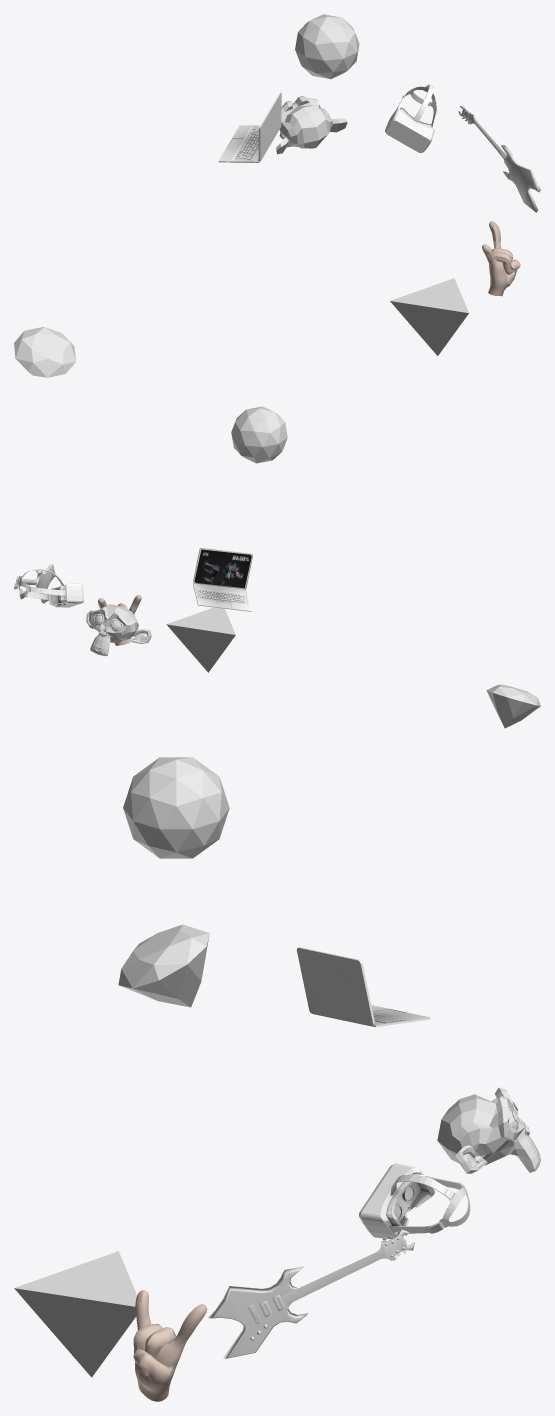
File: spiral_scroll_d.glb
The picture shows the model from 3 angles, top to bottom: view 1: azimuth 30°, elevation 25°; view 2: azimuth 150°, elevation 25°; view 3: azimuth 270°, elevation 25°; orthographic projection. The views are drawn at different scales.
Visible parts, largest first — view 1: Cone, Icosphere, Suzanne, Diamond, Notebook, VR Headset, Horns, Guitar; view 2: Notebook, Cone, Icosphere, Suzanne, Diamond, VR Headset, Guitar; view 3: Icosphere, Cone, Suzanne, Guitar, Diamond, Notebook, VR Headset, Horns.
Part boxes in pixels (bbox=[...]): Cone: bbox=[390, 278, 468, 355]; Icosphere: bbox=[295, 14, 359, 79]; Suzanne: bbox=[276, 96, 347, 154]; Diamond: bbox=[14, 327, 75, 377]; Notebook: bbox=[218, 92, 281, 162]; VR Headset: bbox=[385, 84, 437, 152]; Horns: bbox=[482, 221, 520, 296]; Guitar: bbox=[458, 105, 540, 212]; Notebook: bbox=[193, 547, 252, 611]; Cone: bbox=[166, 607, 235, 672]; Icosphere: bbox=[231, 406, 287, 463]; Suzanne: bbox=[86, 604, 151, 656]; Diamond: bbox=[486, 684, 540, 728]; VR Headset: bbox=[18, 569, 83, 607]; Guitar: bbox=[14, 564, 55, 603]; Icosphere: bbox=[123, 757, 229, 858]; Cone: bbox=[14, 1251, 137, 1377]; Suzanne: bbox=[437, 1087, 540, 1173]; Guitar: bbox=[208, 1229, 414, 1358]; Diamond: bbox=[118, 924, 209, 1007]; Notebook: bbox=[296, 947, 430, 1027]; VR Headset: bbox=[359, 1163, 470, 1239]; Horns: bbox=[133, 1290, 207, 1401].
Bounding box in the file's own units: 43.22 × 26.05 × 22.56.
9 materials, 3 textured.
